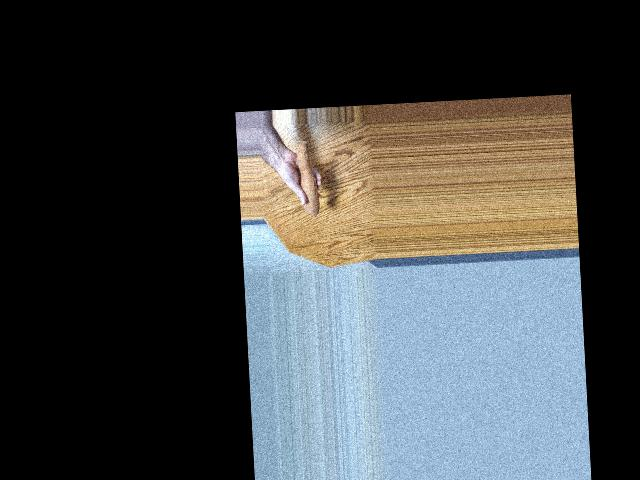sweet_potato: (294, 136, 322, 219)
